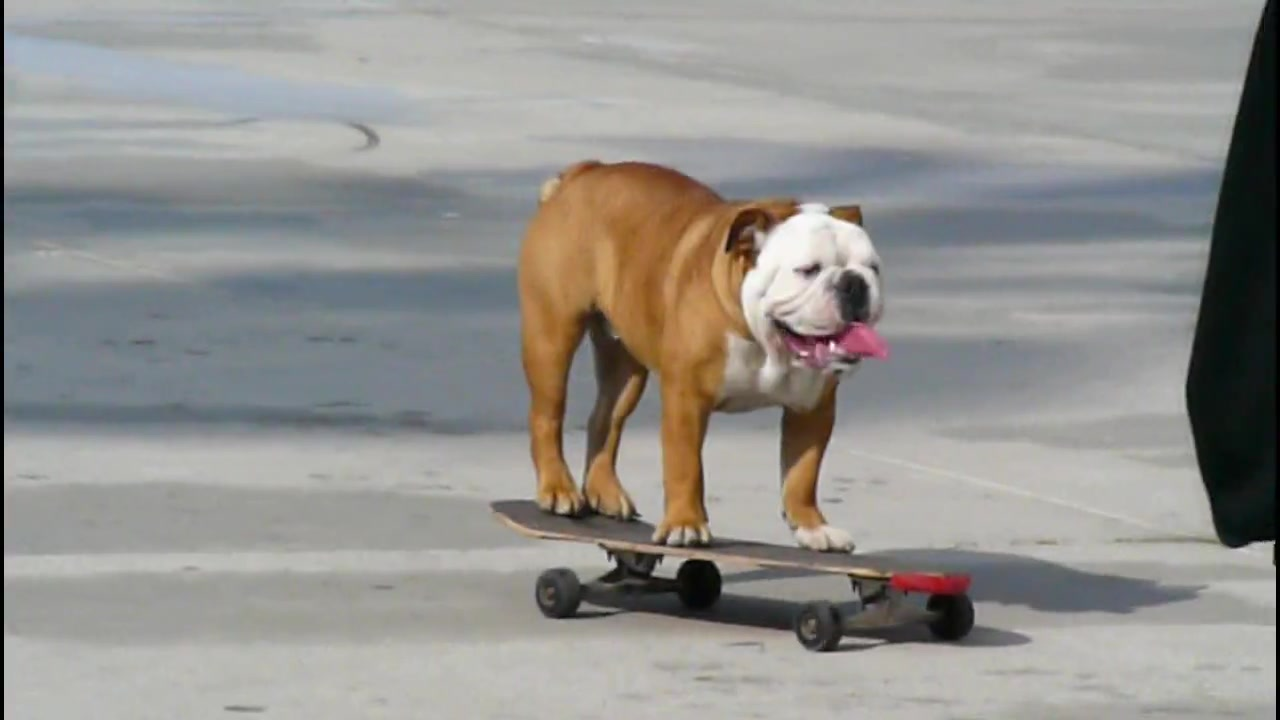dog: (514, 158, 898, 555)
